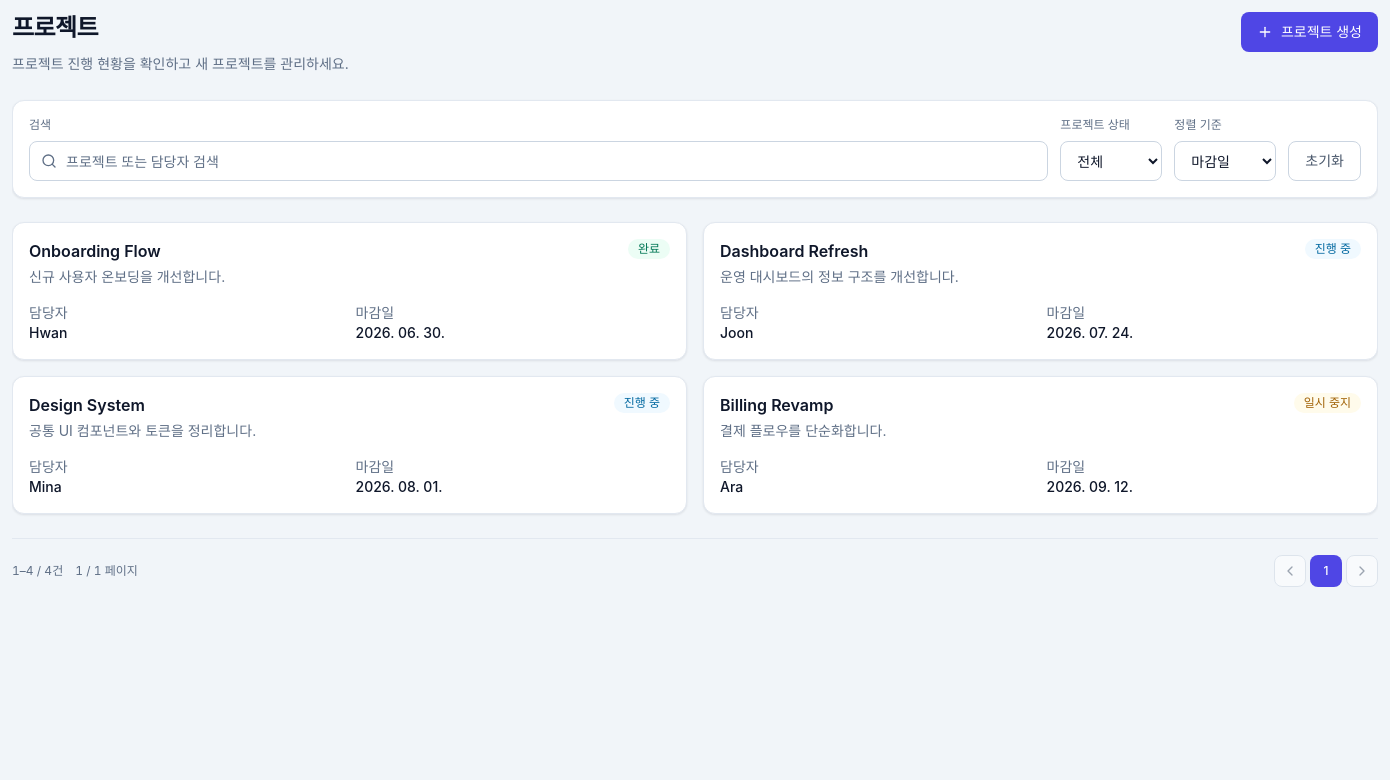
ProjectsPage › 공통 빈 상태와 페이지 표시에서 필터를 초기화한다
The image size is (1390, 780).
Expected: the link "Design System" is shown, [29,395,145,415]
Type "없는 프로젝트" into the field labelled "검색". click: (539, 161)
box: [29,141,1048,181]
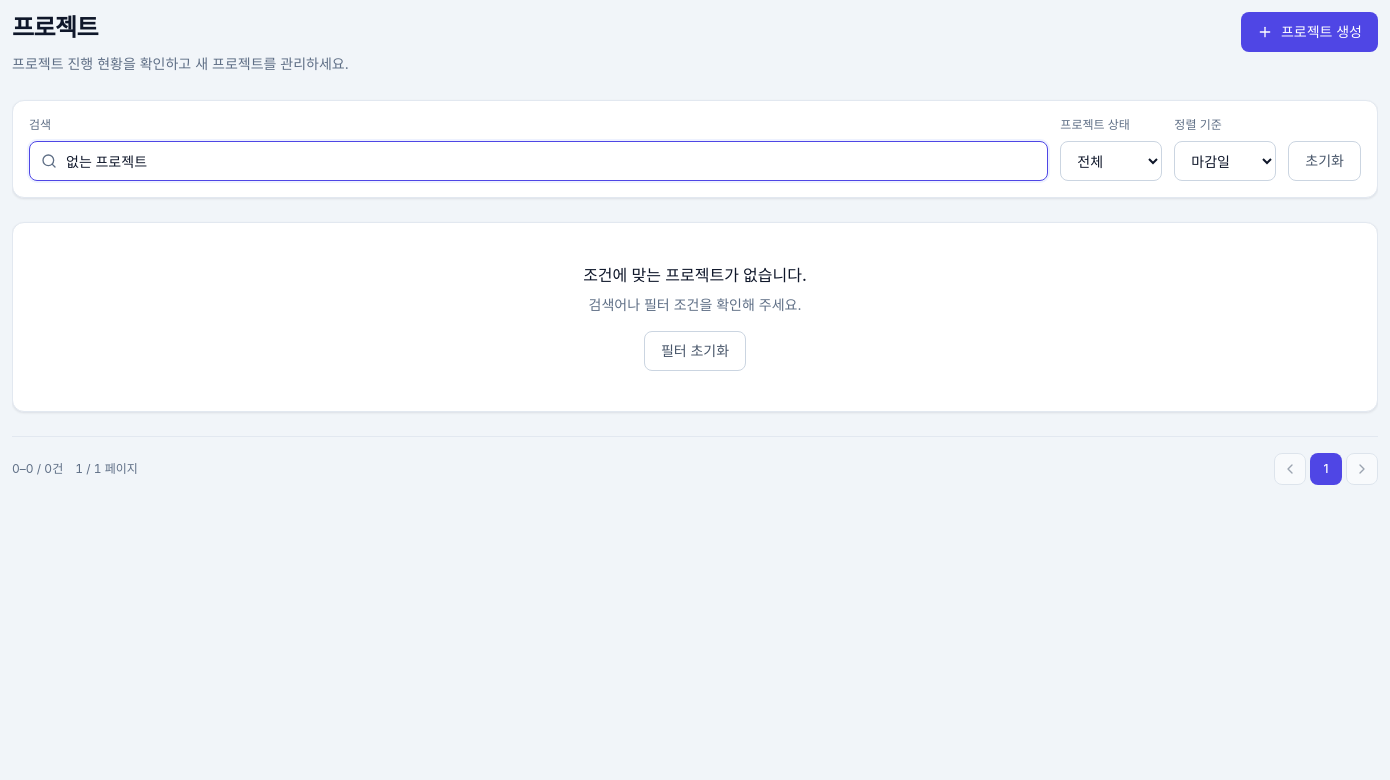
Result: the message shows "조건에 맞는 프로젝트가 없습니다." at [583,265,807,285]
Result: the text "0–0 / 0건" is shown at [12,461,63,477]
Click the button "필터 초기화". click: (695, 351)
box: [644,331,746,371]
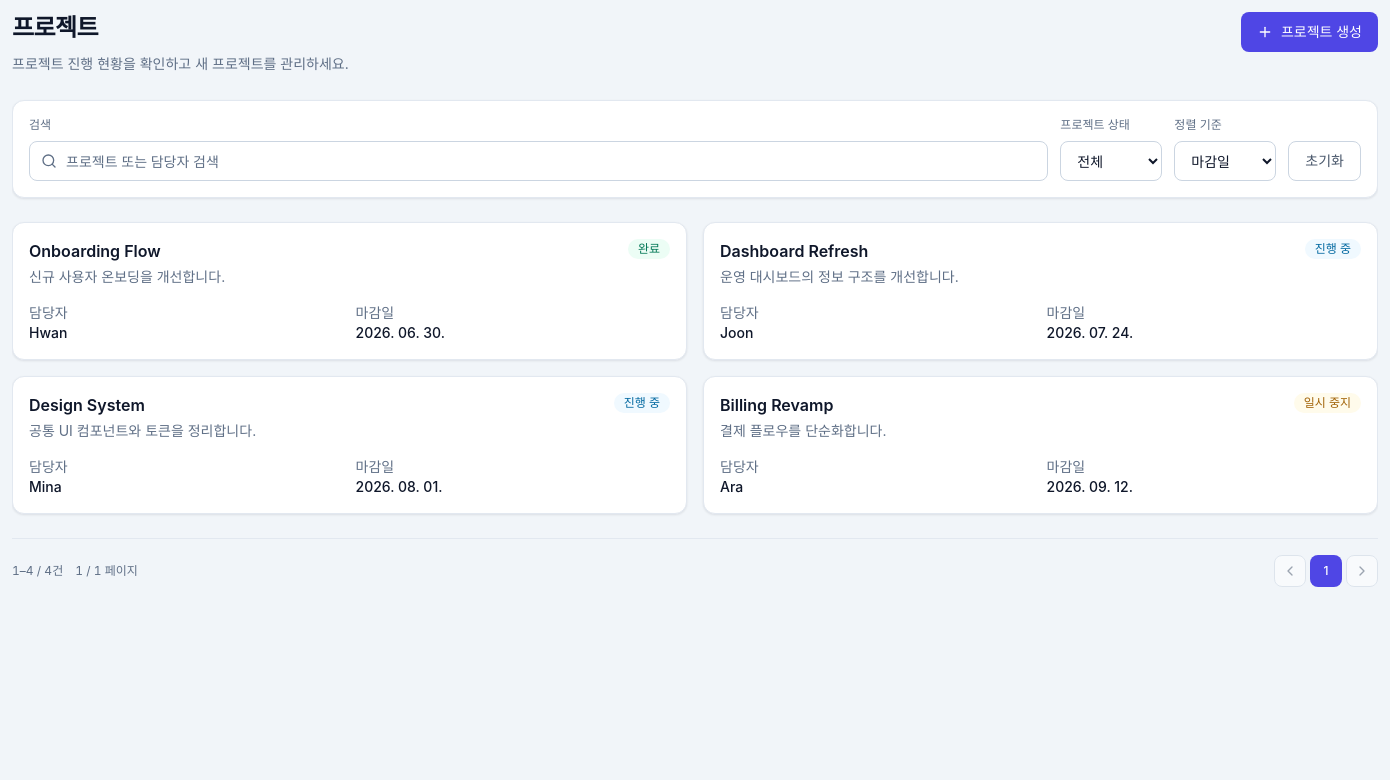
Result: the field labelled "검색" is empty at [29,141,1048,181]
Result: the link "Design System" is shown at [29,395,145,415]
